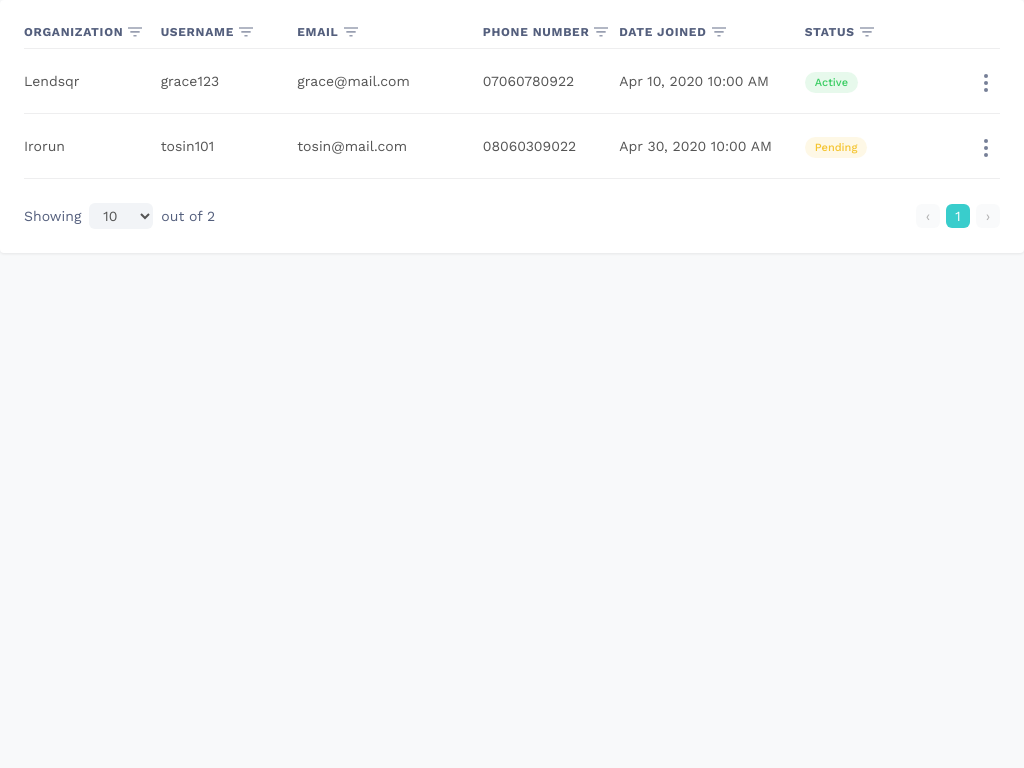
UsersTable filter panel › applies and resets username filter
Check: the text "grace123" is shown, box [161, 48, 297, 114]
Check: the text "tosin101" is shown, box [161, 114, 297, 178]
Click the button named "filter by username": (246, 32) [238, 24, 254, 40]
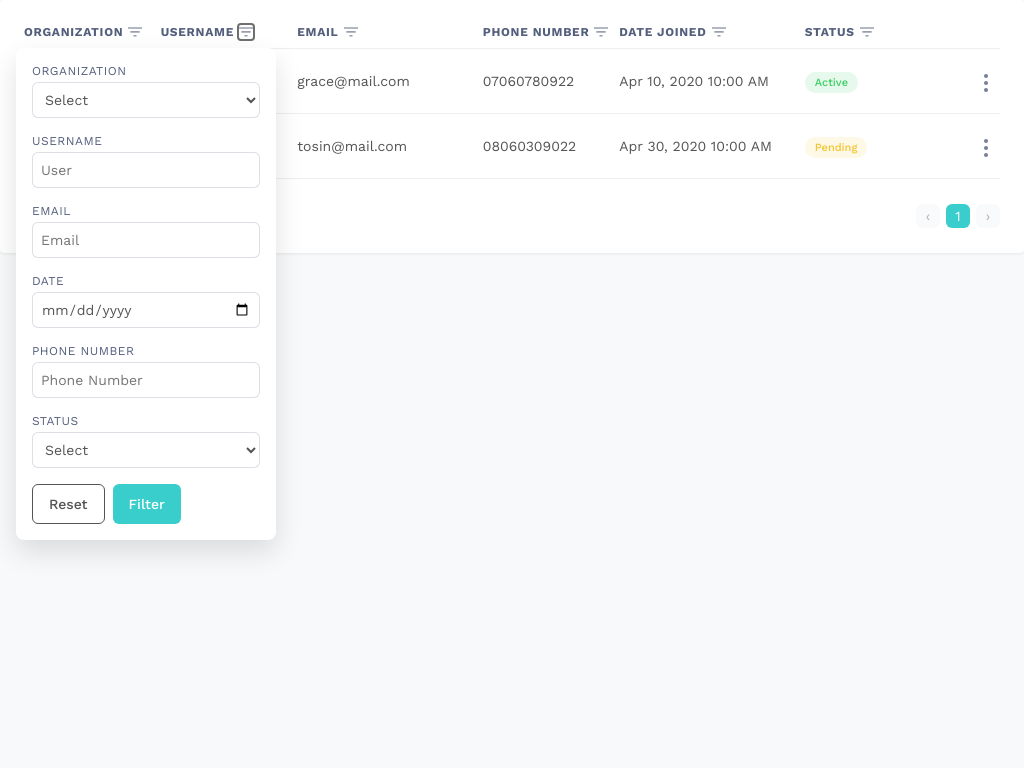
In the field with placeholder "User": (146, 170) [32, 152, 260, 188], type "grace"
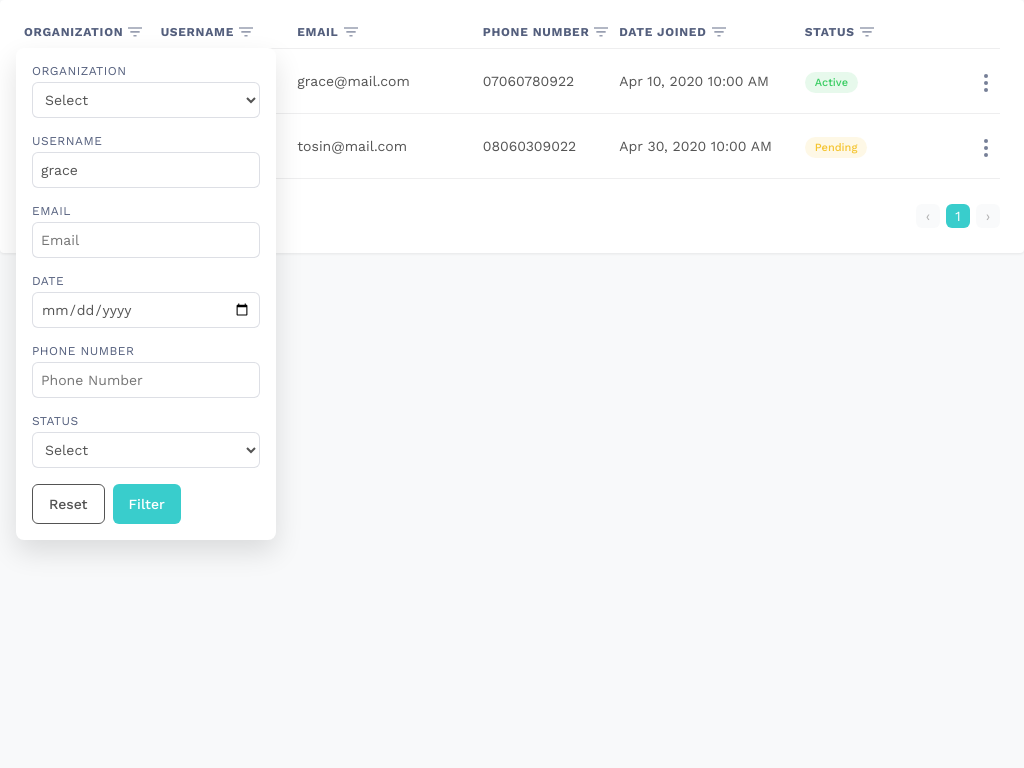
Click the button "Filter": (147, 504) [113, 484, 181, 524]
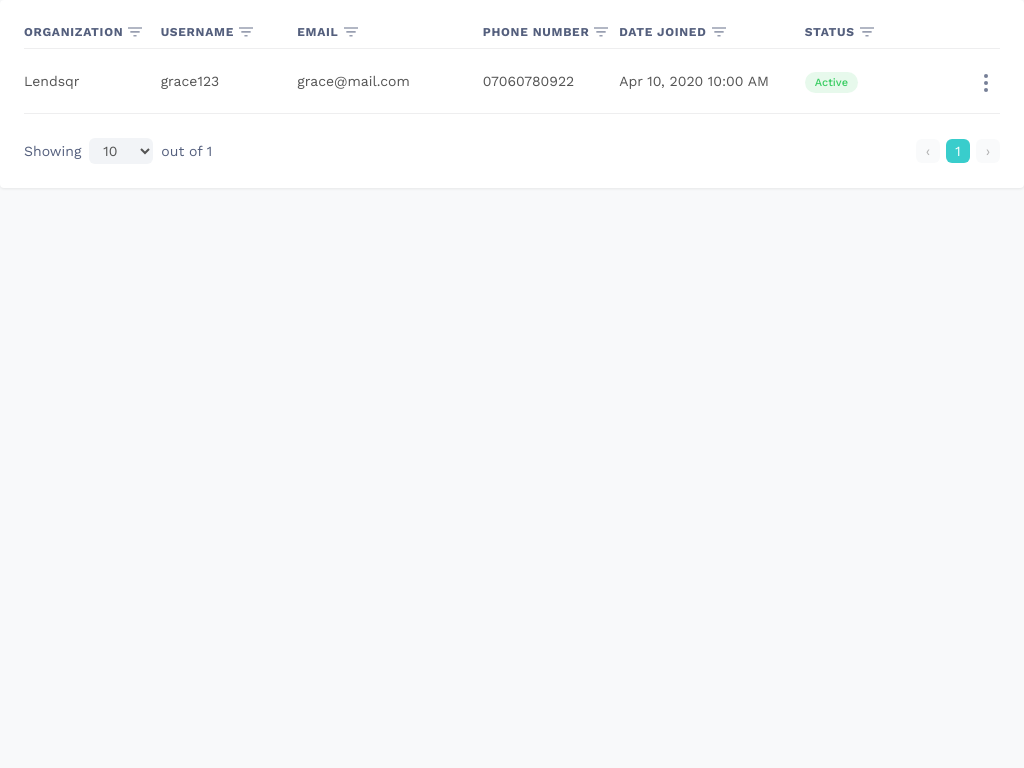
Check: the text "grace123" is shown, box [161, 48, 297, 114]
Check: the text "tosin101" is gone
Click the button named "filter by username": (246, 32) [238, 24, 254, 40]
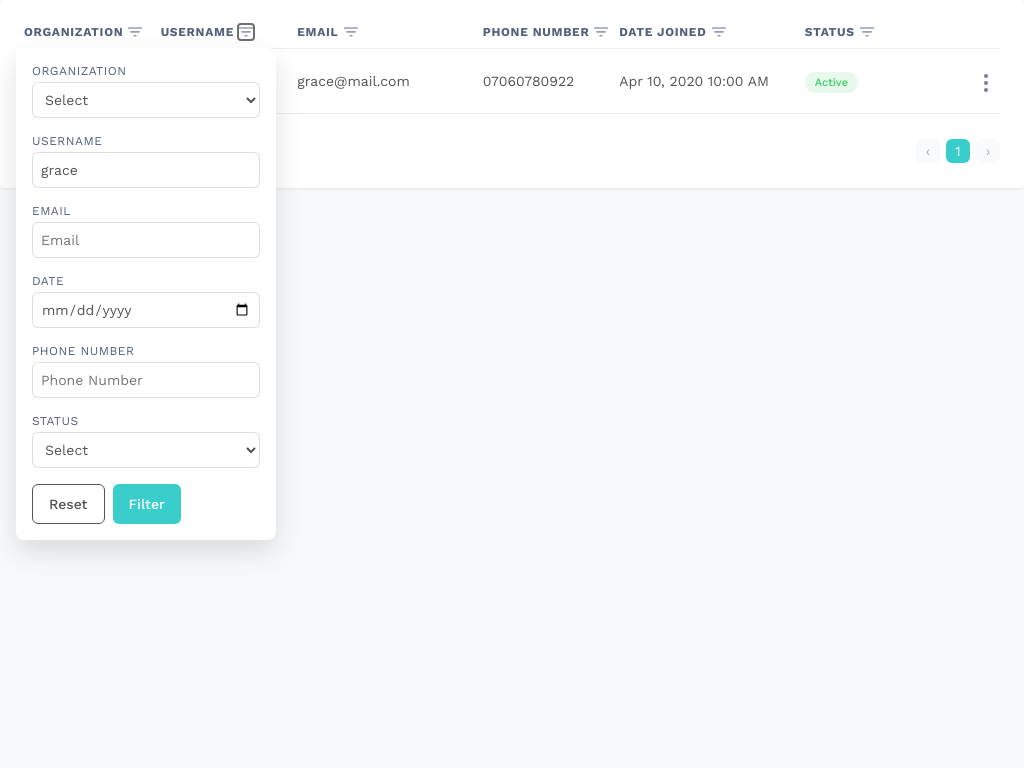
Click the button "Reset": (68, 504) [32, 484, 105, 524]
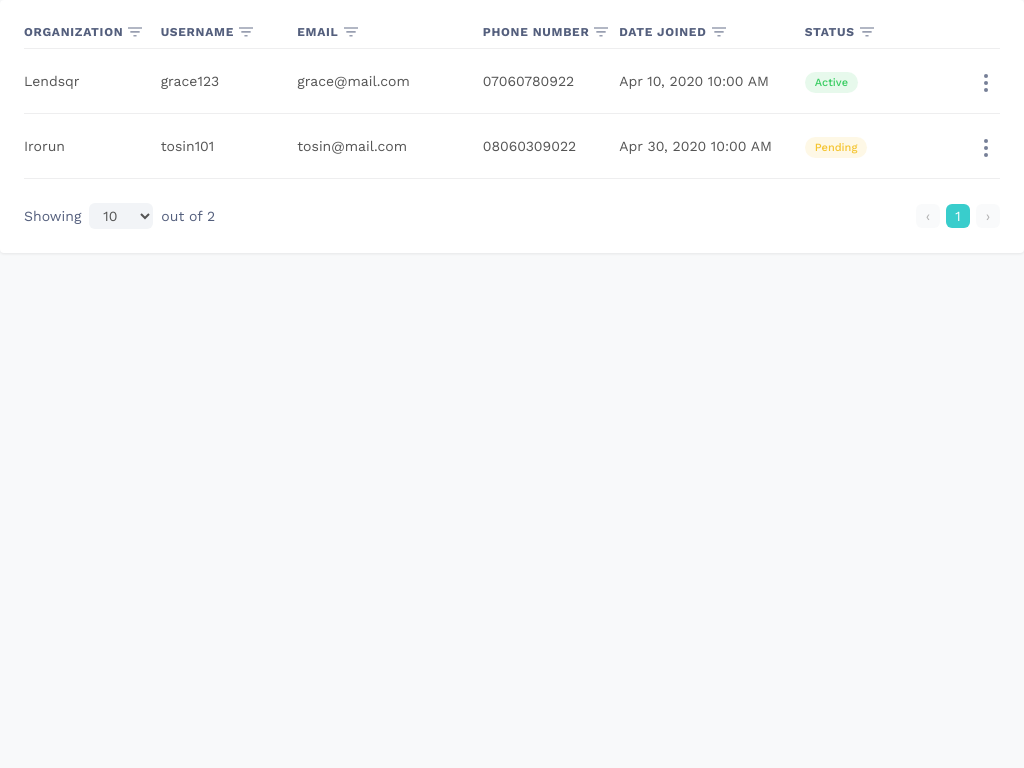
Check: the text "grace123" is shown, box [161, 48, 297, 114]
Check: the text "tosin101" is shown, box [161, 114, 297, 178]
